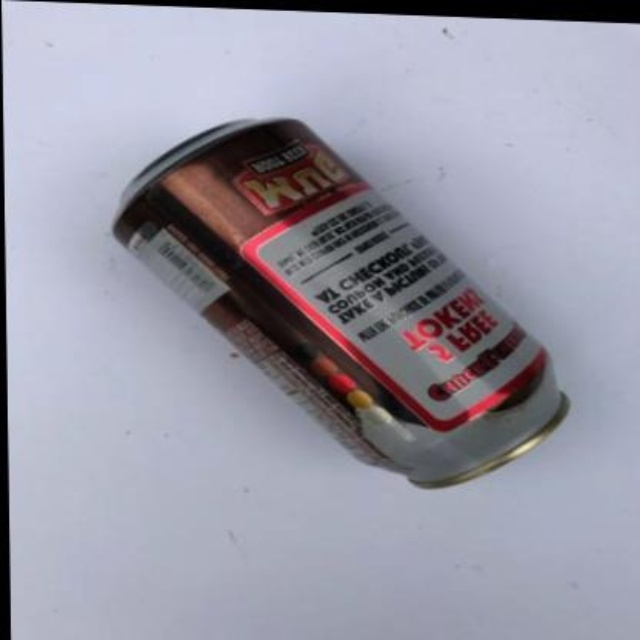trash: (114, 118, 568, 486)
